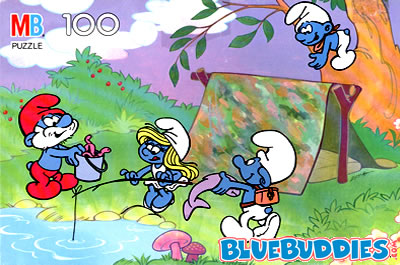smurf: (220, 128, 297, 241), (16, 91, 83, 200), (119, 115, 192, 213), (281, 1, 357, 71)
